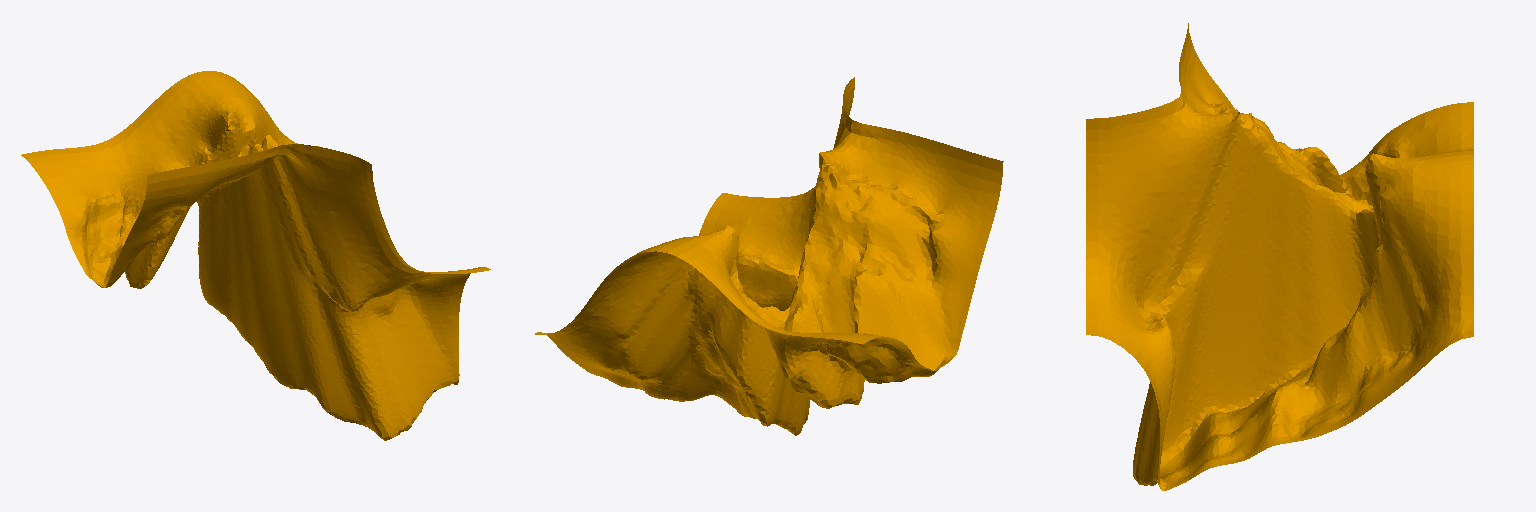
URDF robot description (withtool6):
<?xml version="0.0" ?>
<robot name="withtool6">
    <link concave="yes" name="baseLink">
        <contact>
            <lateral_friction value="100.0"/>
        </contact>
        <inertial>
            <origin rpy="0 0 0" xyz="0 0 0.0036"/>
            <mass value=".0"/>
            <inertia ixx="0" ixy="0" ixz="0" iyy="0" iyz="0" izz="0"/>
        </inertial>
        <visual>
            <origin rpy="0 0 0" xyz="0 0 0"/>
            <geometry>
                <mesh filename="meshes2/reserve_s1_mesh_tex.obj" scale="0.8 0.8 0.8"/>
            </geometry>
        </visual>
        <collision>
            <origin rpy="0 0 0" xyz="0 0.0 0"/>
            <geometry>
                  <mesh filename="meshes2/reserve_s1_mesh_tex_vhacd.obj" scale="0.8 0.8 0.8"/>
            </geometry>
        </collision>
    </link>
</robot>

--- What the picture shows (computed from the rendered views, not written in the file) ---
The picture shows the robot from 3 angles, left to right: view 1: azimuth 30°, elevation 25°; view 2: azimuth 150°, elevation 25°; view 3: azimuth 270°, elevation 25°; orthographic projection.
Model withtool6 with 1 links and 0 joints (none), rooted at baseLink, posed every joint at zero.
Links seen in each view (by area): view 1: baseLink; view 2: baseLink; view 3: baseLink.
Boxes of the visible links, x1,y1,x2,y2 form: baseLink: (21, 71, 490, 440); baseLink: (535, 77, 1003, 435); baseLink: (1086, 23, 1473, 490).
Bounding box of the posed robot: 0.8 × 0.8 × 0.7727 m (x, y, z).
1 mesh visuals loaded from 1 distinct referenced files (1 OBJ).
